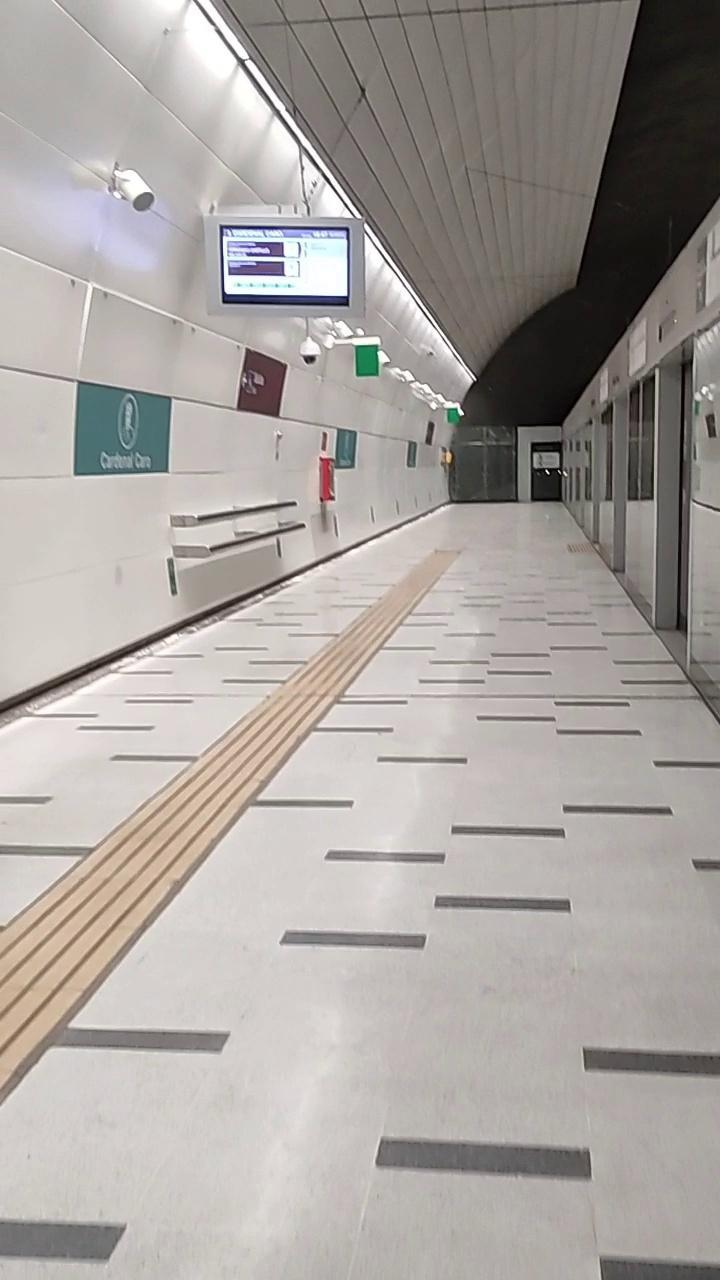handicapped symbol: (246, 373, 255, 392)
left arrow: (239, 373, 249, 389)
